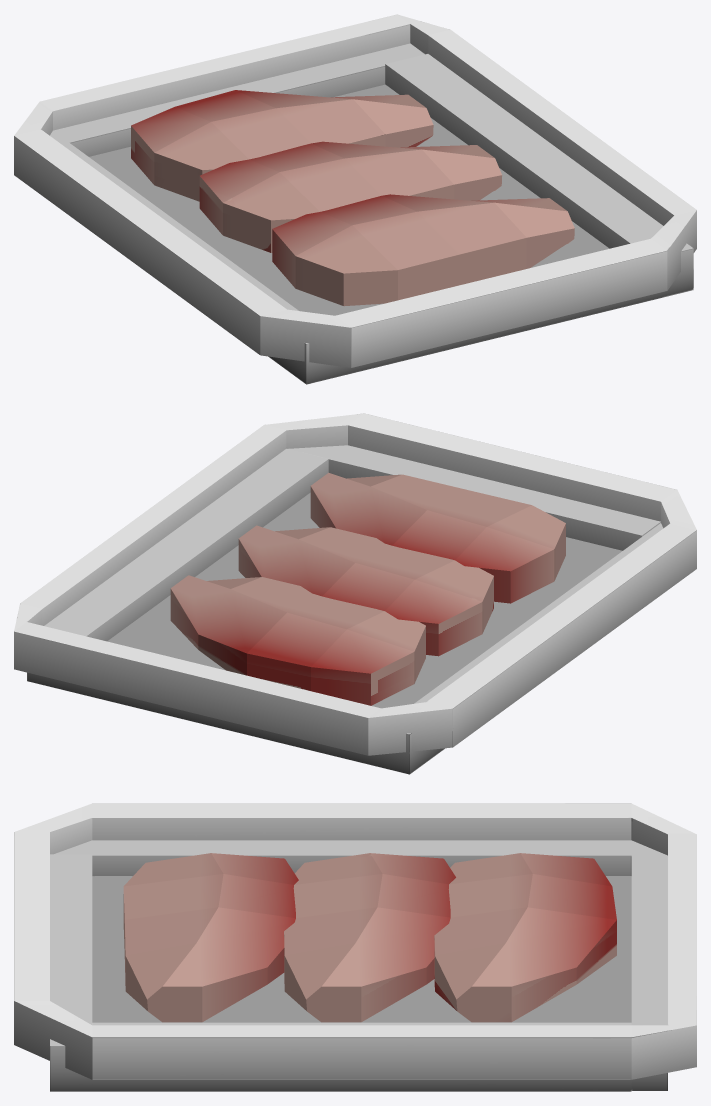
The model's file is Chicken Breast.glb.
3 renders of one model, top to bottom at view 1: azimuth 30°, elevation 25°; view 2: azimuth 150°, elevation 25°; view 3: azimuth 270°, elevation 25°, orthographic. The views are drawn at different scales.
Visible parts, largest first — view 1: Cube, Plane.002, Plane.001, Plane; view 2: Cube, Plane, Plane.002, Plane.001; view 3: Cube, Plane, Plane.002, Plane.001.
Boxes of the visible parts, x1=… form: Cube: x1=14, y1=14, x2=696, y2=384; Plane.002: x1=272, y1=194, x2=574, y2=306; Plane.001: x1=199, y1=141, x2=502, y2=252; Plane: x1=131, y1=90, x2=433, y2=201; Cube: x1=14, y1=413, x2=696, y2=774; Plane: x1=170, y1=575, x2=425, y2=705; Plane.002: x1=310, y1=472, x2=565, y2=603; Plane.001: x1=238, y1=525, x2=493, y2=656; Cube: x1=14, y1=803, x2=696, y2=1091; Plane: x1=434, y1=853, x2=616, y2=1022; Plane.002: x1=123, y1=853, x2=298, y2=1022; Plane.001: x1=284, y1=853, x2=455, y2=1022.
Bounding box in the file's own units: 2.05 × 0.3175 × 2.53.
Materials: 2 (2 with a texture image).
